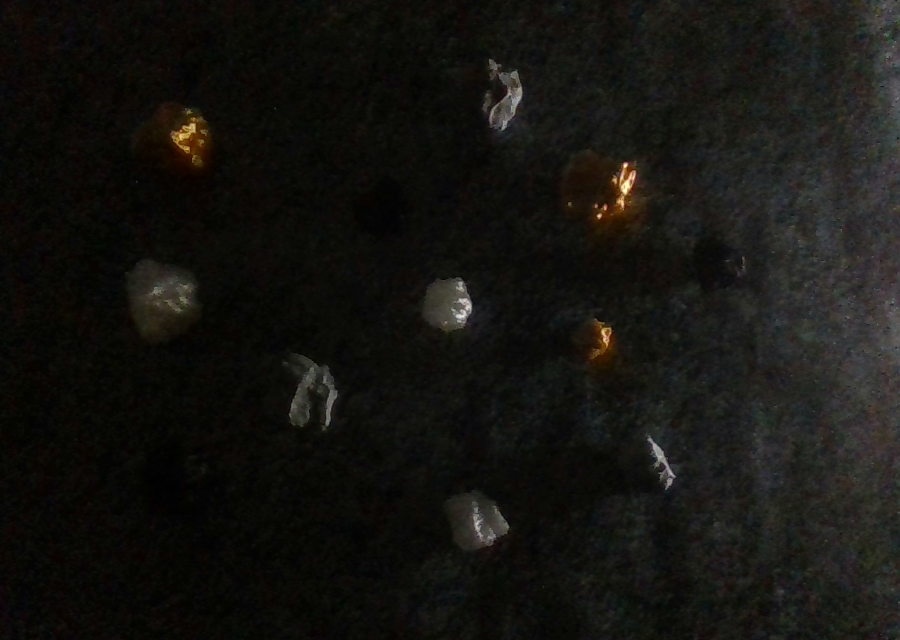anorthosite: (124, 259, 203, 345), (440, 488, 509, 552), (422, 277, 472, 332)
basalt: (139, 442, 208, 517), (351, 172, 411, 242), (690, 236, 745, 293)
metal: (129, 100, 213, 176), (557, 150, 636, 220), (568, 317, 613, 360)
regolith: (438, 55, 523, 133), (260, 352, 338, 431), (613, 435, 673, 493)
